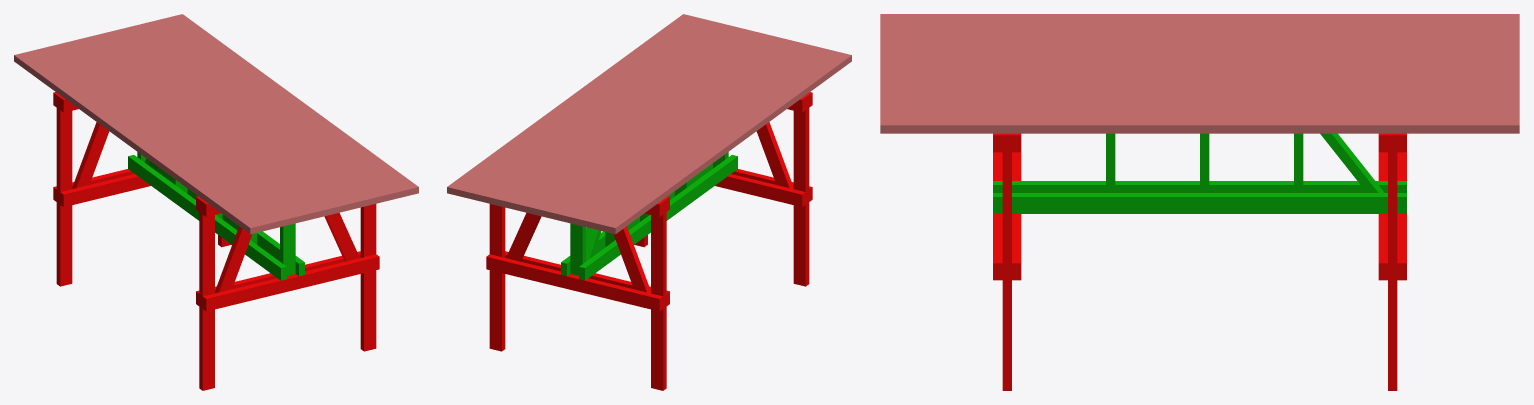
The model's file is result.glb.
3 views of the same model, side by side, from view 1: azimuth 30°, elevation 25°; view 2: azimuth 150°, elevation 25°; view 3: azimuth 270°, elevation 25° (orthographic). The views are drawn at different scales.
Parts seen in each view (by area): view 1: f1132b36-2a21-414a-b266-eec9b02b3c92__Box, 6cc7cf5e-d2b7-44e7-bdde-6dced8331e92__undefined, e700a26e-a60e-4ad7-a0fe-ad07d3d773b6__undefined, 27ea5642-6013-4f84-9ee1-b4b7195cdd92__undefined, 9b9ac69d-d3e1-4e14-8b70-99ff3236fb07__undefined, b1956ac8-2944-4fc5-ab24-a9ce0965692a__undefined, da9b77c0-471f-47b5-b476-bcef93dc902c__undefined, 0b6be2b1-4a27-48b5-8d14-c38a6055f874__undefined, efe43185-10e3-48bb-822d-530471730928__undefined, 9b10b9e8-45cc-4f0c-80b3-537e4a9d5970__undefined, 3b659451-889c-4deb-9bc9-082141c9985d__undefined, 622bdefc-ce04-4d1c-a2d5-6f91c1e5aaed__undefined (+15 smaller); view 2: f1132b36-2a21-414a-b266-eec9b02b3c92__Box, 6cc7cf5e-d2b7-44e7-bdde-6dced8331e92__undefined, e700a26e-a60e-4ad7-a0fe-ad07d3d773b6__undefined, 27ea5642-6013-4f84-9ee1-b4b7195cdd92__undefined, 9b9ac69d-d3e1-4e14-8b70-99ff3236fb07__undefined, b1956ac8-2944-4fc5-ab24-a9ce0965692a__undefined, da9b77c0-471f-47b5-b476-bcef93dc902c__undefined, 0b6be2b1-4a27-48b5-8d14-c38a6055f874__undefined, efe43185-10e3-48bb-822d-530471730928__undefined, 9b10b9e8-45cc-4f0c-80b3-537e4a9d5970__undefined, 3b659451-889c-4deb-9bc9-082141c9985d__undefined, 622bdefc-ce04-4d1c-a2d5-6f91c1e5aaed__undefined (+16 smaller); view 3: 622bdefc-ce04-4d1c-a2d5-6f91c1e5aaed__undefined, bc2ddde7-72e1-4d77-bcc4-c50ddcc7ece4__strutH, e700a26e-a60e-4ad7-a0fe-ad07d3d773b6__undefined, 9b10b9e8-45cc-4f0c-80b3-537e4a9d5970__undefined, 27ea5642-6013-4f84-9ee1-b4b7195cdd92__undefined, 9b9ac69d-d3e1-4e14-8b70-99ff3236fb07__undefined, efe43185-10e3-48bb-822d-530471730928__undefined, 3b659451-889c-4deb-9bc9-082141c9985d__undefined, da9b77c0-471f-47b5-b476-bcef93dc902c__undefined, 68e33d1e-510a-46da-9dd6-f36b82805389__undefined, 7c842d69-c39c-448d-b463-19828f696cfb__undefined, f1132b36-2a21-414a-b266-eec9b02b3c92__Box (+14 smaller).
Boxes of the visible parts, left/top/right/bottom form: f1132b36-2a21-414a-b266-eec9b02b3c92__Box: left=14, top=52, right=262, bottom=234; 6cc7cf5e-d2b7-44e7-bdde-6dced8331e92__undefined: left=50, top=43, right=298, bottom=225; e700a26e-a60e-4ad7-a0fe-ad07d3d773b6__undefined: left=62, top=40, right=310, bottom=222; 27ea5642-6013-4f84-9ee1-b4b7195cdd92__undefined: left=86, top=34, right=334, bottom=216; 9b9ac69d-d3e1-4e14-8b70-99ff3236fb07__undefined: left=98, top=31, right=346, bottom=213; b1956ac8-2944-4fc5-ab24-a9ce0965692a__undefined: left=38, top=46, right=286, bottom=228; da9b77c0-471f-47b5-b476-bcef93dc902c__undefined: left=135, top=23, right=382, bottom=204; 0b6be2b1-4a27-48b5-8d14-c38a6055f874__undefined: left=26, top=49, right=274, bottom=231; efe43185-10e3-48bb-822d-530471730928__undefined: left=111, top=28, right=358, bottom=210; 9b10b9e8-45cc-4f0c-80b3-537e4a9d5970__undefined: left=74, top=37, right=322, bottom=219; 3b659451-889c-4deb-9bc9-082141c9985d__undefined: left=123, top=25, right=370, bottom=207; 622bdefc-ce04-4d1c-a2d5-6f91c1e5aaed__undefined: left=171, top=14, right=418, bottom=195; f1132b36-2a21-414a-b266-eec9b02b3c92__Box: left=603, top=52, right=851, bottom=234; 6cc7cf5e-d2b7-44e7-bdde-6dced8331e92__undefined: left=567, top=43, right=815, bottom=225; e700a26e-a60e-4ad7-a0fe-ad07d3d773b6__undefined: left=555, top=40, right=803, bottom=222; 27ea5642-6013-4f84-9ee1-b4b7195cdd92__undefined: left=531, top=34, right=779, bottom=216; 9b9ac69d-d3e1-4e14-8b70-99ff3236fb07__undefined: left=519, top=31, right=767, bottom=213; b1956ac8-2944-4fc5-ab24-a9ce0965692a__undefined: left=579, top=46, right=827, bottom=228; da9b77c0-471f-47b5-b476-bcef93dc902c__undefined: left=483, top=23, right=730, bottom=204; 0b6be2b1-4a27-48b5-8d14-c38a6055f874__undefined: left=591, top=49, right=839, bottom=231; efe43185-10e3-48bb-822d-530471730928__undefined: left=507, top=28, right=754, bottom=210; 9b10b9e8-45cc-4f0c-80b3-537e4a9d5970__undefined: left=543, top=37, right=791, bottom=219; 3b659451-889c-4deb-9bc9-082141c9985d__undefined: left=495, top=25, right=742, bottom=207; 622bdefc-ce04-4d1c-a2d5-6f91c1e5aaed__undefined: left=447, top=14, right=694, bottom=195; 622bdefc-ce04-4d1c-a2d5-6f91c1e5aaed__undefined: left=880, top=117, right=1519, bottom=133; bc2ddde7-72e1-4d77-bcc4-c50ddcc7ece4__strutH: left=993, top=193, right=1406, bottom=213; e700a26e-a60e-4ad7-a0fe-ad07d3d773b6__undefined: left=880, top=45, right=1519, bottom=53; 9b10b9e8-45cc-4f0c-80b3-537e4a9d5970__undefined: left=880, top=53, right=1519, bottom=61; 27ea5642-6013-4f84-9ee1-b4b7195cdd92__undefined: left=880, top=61, right=1519, bottom=69; 9b9ac69d-d3e1-4e14-8b70-99ff3236fb07__undefined: left=880, top=69, right=1519, bottom=77; efe43185-10e3-48bb-822d-530471730928__undefined: left=880, top=77, right=1519, bottom=85; 3b659451-889c-4deb-9bc9-082141c9985d__undefined: left=880, top=85, right=1519, bottom=93; da9b77c0-471f-47b5-b476-bcef93dc902c__undefined: left=880, top=93, right=1519, bottom=101; 68e33d1e-510a-46da-9dd6-f36b82805389__undefined: left=880, top=101, right=1519, bottom=109; 7c842d69-c39c-448d-b463-19828f696cfb__undefined: left=880, top=109, right=1519, bottom=117; f1132b36-2a21-414a-b266-eec9b02b3c92__Box: left=880, top=14, right=1519, bottom=21.
Size of the model in its own units: 720 by 775 by 1700.
